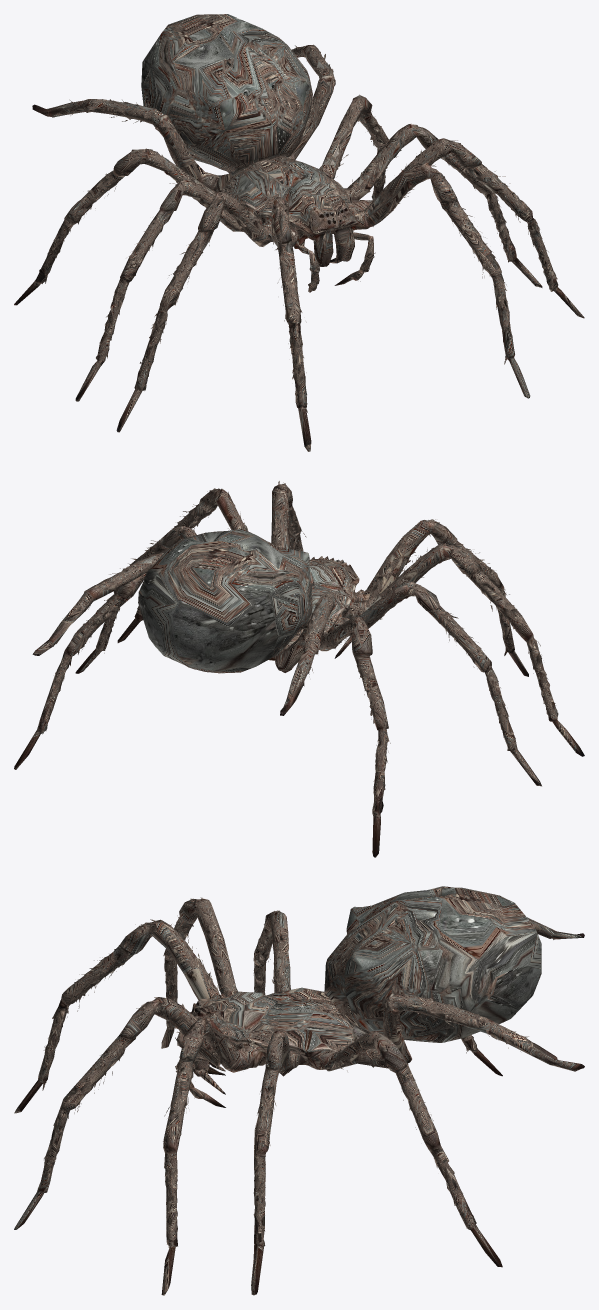
Rendered from spider.glb.
The picture shows the model from 3 angles, top to bottom: view 1: azimuth 30°, elevation 25°; view 2: azimuth 150°, elevation 25°; view 3: azimuth 270°, elevation 25°; orthographic projection. The views are drawn at different scales.
Bounding box in the file's own units: 1.9 × 0.9807 × 1.85.
1 material, 1 textured.
